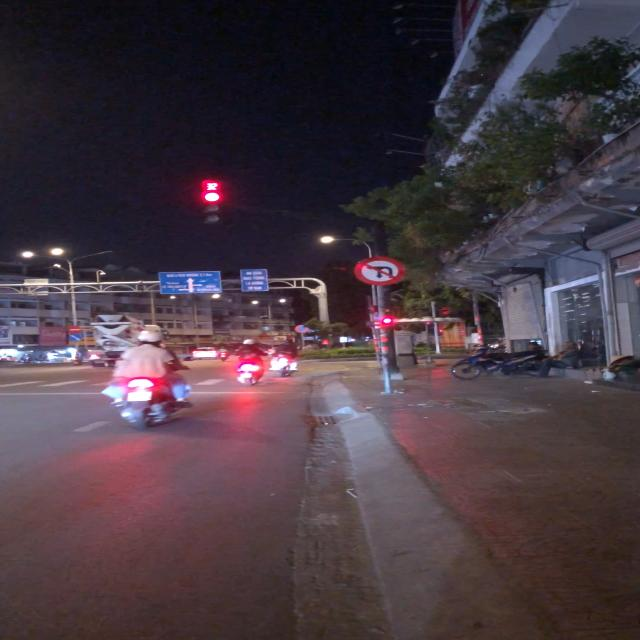Bien bao cam re trai va quay dau: (354, 255, 408, 288)
